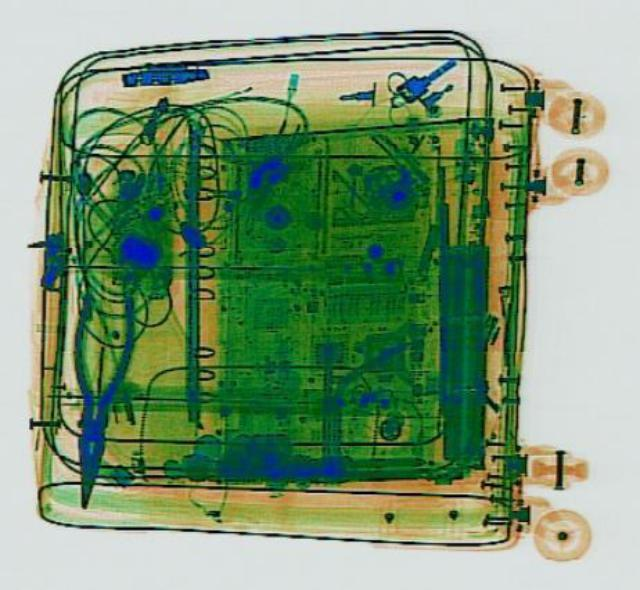Pliers: (52, 291, 140, 507)
